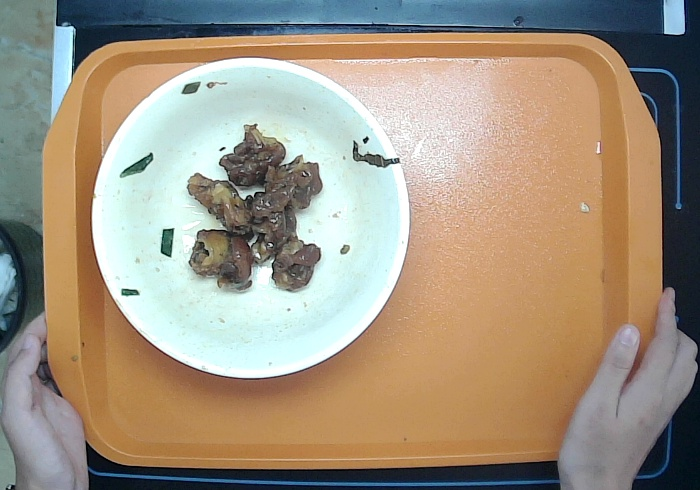ZNLD-Da_Tang_Wan: (89, 54, 413, 383)
